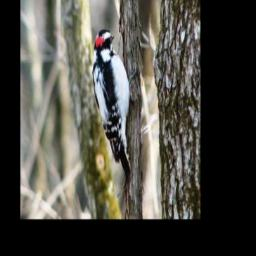Woodpecker: (90, 29, 136, 186)
